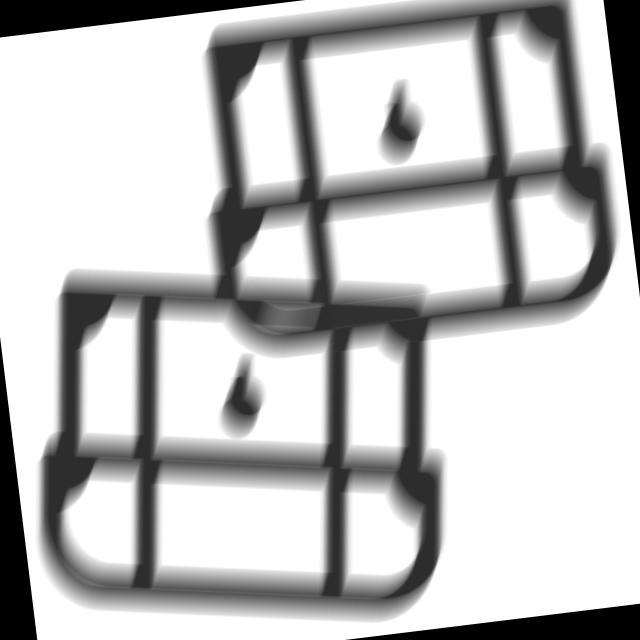treasure_box: (1, 223, 480, 640), (161, 1, 637, 385)
